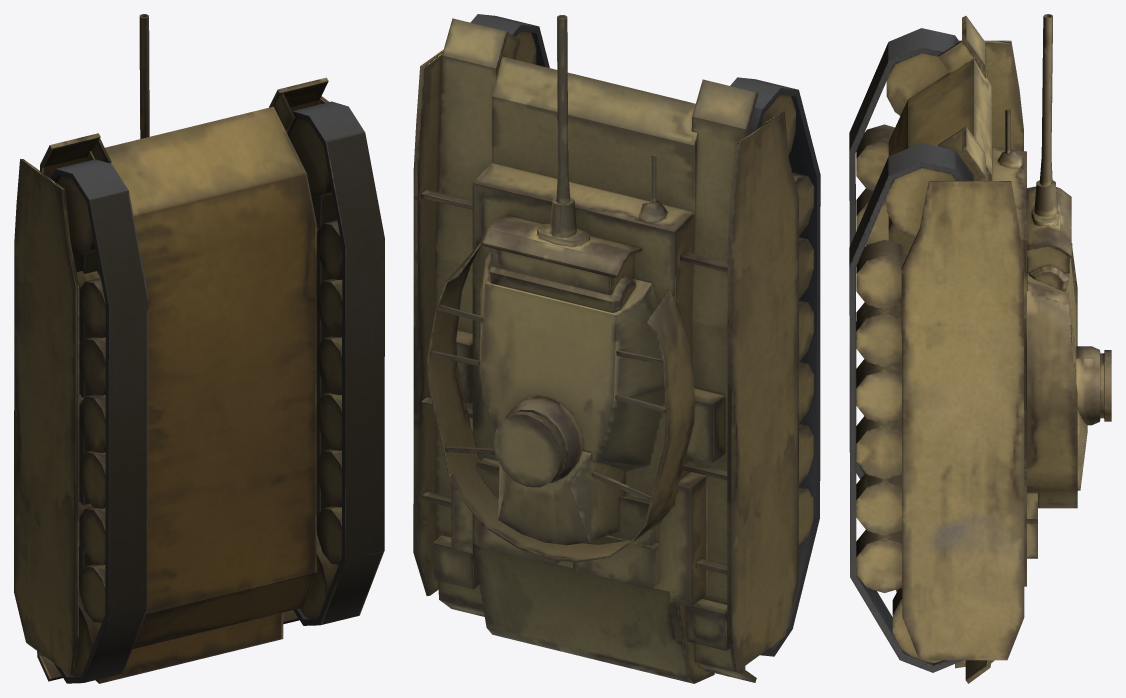
File: Pz.III_M.fbx
The picture shows the model from 3 angles, left to right: view 1: azimuth 30°, elevation 25°; view 2: azimuth 150°, elevation 25°; view 3: azimuth 270°, elevation 25°; orthographic projection. The views are drawn at different scales.
Visible parts, largest first — view 1: Pz.III_M Body, Pz.III_M Turret; view 2: Pz.III_M Body, Pz.III_M Turret; view 3: Pz.III_M Body, Pz.III_M Turret.
Part boxes in pixels (x1,y1,x2,y2): Pz.III_M Body: [14, 77, 384, 683]; Pz.III_M Turret: [139, 14, 149, 138]; Pz.III_M Body: [413, 14, 820, 683]; Pz.III_M Turret: [427, 15, 695, 562]; Pz.III_M Body: [849, 16, 1037, 683]; Pz.III_M Turret: [1027, 14, 1111, 508].
Bounding box in the file's own units: 108 × 218 × 85.18.
